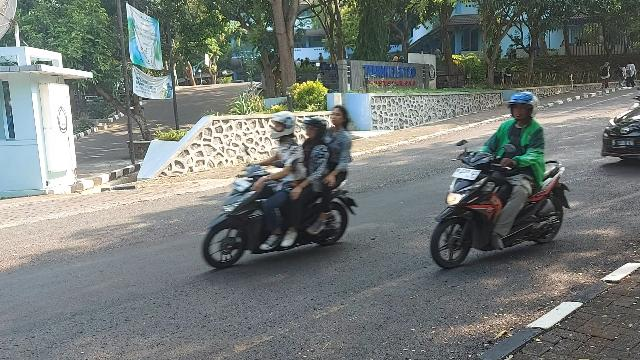helm: (510, 93, 539, 121), (272, 112, 296, 141), (304, 118, 327, 139)
motor: (204, 150, 358, 271), (431, 140, 572, 270)
non-helm: (333, 106, 350, 126)
